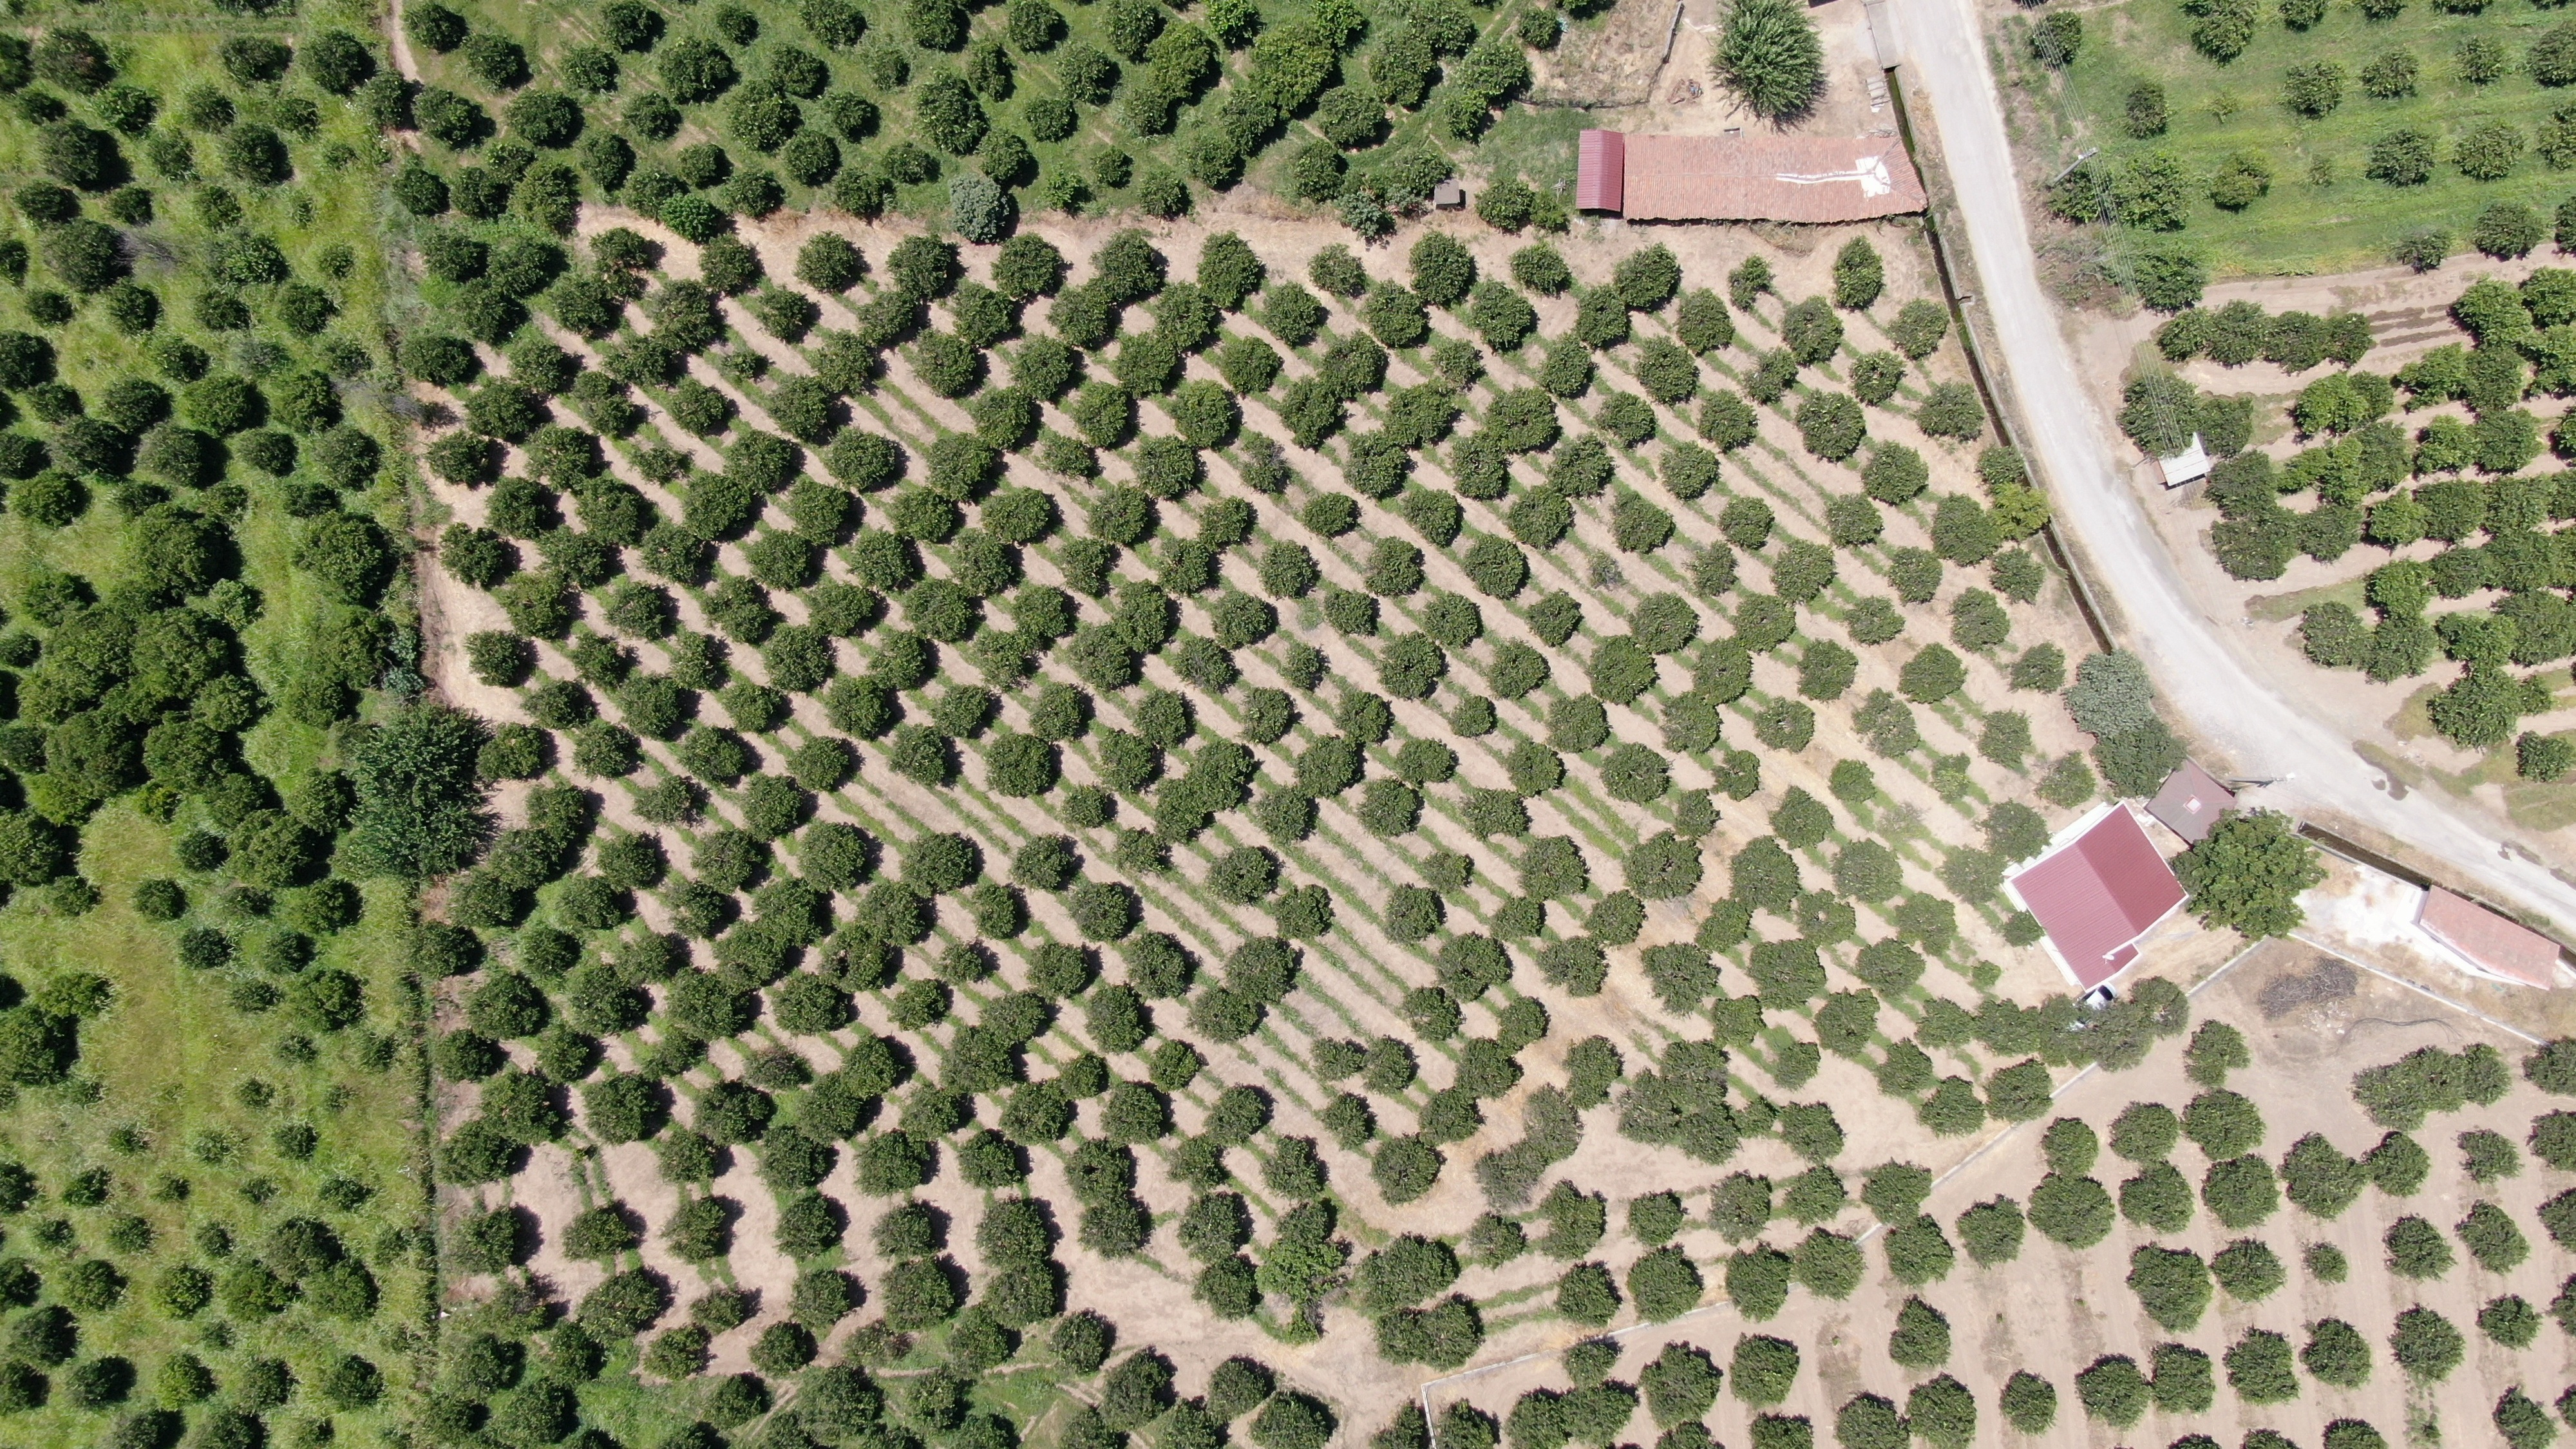TREE: (2166, 809, 2327, 938), (354, 702, 497, 812), (1707, 0, 1826, 126), (341, 782, 495, 876), (294, 511, 395, 600), (126, 607, 230, 692), (2059, 649, 2155, 741), (46, 709, 142, 800), (2427, 669, 2521, 754), (2091, 717, 2187, 800), (2127, 1240, 2212, 1332), (127, 508, 219, 591), (2279, 1132, 2364, 1221), (1251, 19, 1334, 110), (1638, 1341, 1721, 1430), (2118, 372, 2199, 462), (2208, 502, 2300, 582), (35, 119, 129, 193), (14, 658, 104, 734), (2112, 149, 2192, 234), (145, 709, 228, 789), (228, 809, 315, 885), (2028, 1173, 2114, 1249), (2178, 1086, 2266, 1161), (2328, 419, 2408, 501), (2489, 589, 2571, 669), (2387, 1302, 2466, 1384), (481, 1067, 561, 1148), (1638, 939, 1721, 1017), (44, 218, 131, 292), (2199, 1154, 2282, 1230), (2447, 272, 2532, 347), (665, 968, 750, 1042), (2222, 1325, 2300, 1405), (1626, 1246, 1704, 1325), (803, 1362, 885, 1438), (915, 67, 987, 152), (1622, 826, 1704, 901), (2454, 1200, 2532, 1276), (1727, 835, 1799, 916), (1790, 1226, 1867, 1302), (2074, 1355, 2151, 1430), (2350, 1058, 2429, 1131), (750, 878, 832, 948), (975, 1196, 1051, 1270), (582, 1072, 658, 1146), (1904, 1371, 1976, 1449), (0, 1005, 71, 1085), (324, 609, 395, 688), (2203, 449, 2282, 520), (1407, 228, 1477, 308), (1481, 384, 1560, 455), (497, 570, 577, 640), (1539, 1178, 1608, 1260), (1102, 1348, 1171, 1430), (579, 1270, 662, 1338), (2128, 242, 2206, 313), (1748, 939, 1826, 1010), (1721, 1240, 1790, 1320), (30, 27, 111, 94), (435, 1120, 518, 1185), (2298, 1316, 2373, 1389), (881, 1258, 955, 1330), (796, 821, 869, 895), (568, 964, 642, 1037), (2381, 1212, 2457, 1283), (1953, 1192, 2024, 1269), (939, 1024, 1016, 1095), (1435, 932, 1513, 1001), (2208, 1237, 2288, 1304), (897, 832, 978, 897), (2434, 612, 2518, 676), (770, 973, 853, 1037), (508, 163, 580, 235), (1882, 1214, 1955, 1286), (1727, 1332, 1799, 1405), (1343, 428, 1415, 501), (701, 575, 773, 648), (1359, 278, 1433, 349), (2291, 373, 2367, 442), (2148, 1339, 2217, 1415), (1930, 492, 1999, 568), (816, 925, 892, 994), (694, 1079, 771, 1146), (713, 918, 791, 985), (1384, 380, 1463, 446), (1617, 1067, 1679, 1150), (1796, 391, 1867, 464), (646, 278, 717, 350), (1368, 32, 1437, 106), (1829, 837, 1904, 906), (467, 973, 541, 1042), (1976, 798, 2052, 865), (1888, 1293, 1953, 1371), (2033, 993, 2098, 1070), (855, 1131, 932, 1196), (1559, 1378, 1638, 1442), (1256, 1238, 1343, 1297), (1612, 241, 1683, 311), (575, 478, 646, 548), (1373, 1134, 1442, 1207), (1226, 934, 1295, 1007), (1247, 1389, 1330, 1449), (568, 372, 642, 439), (481, 1382, 556, 1449), (58, 416, 134, 481), (1419, 1293, 1483, 1371), (1196, 232, 1260, 310), (2180, 0, 2261, 60), (2396, 341, 2465, 412), (2181, 1019, 2252, 1088), (1851, 688, 1920, 759), (1587, 635, 1658, 704), (1660, 1039, 1730, 1108), (1376, 630, 1445, 701), (925, 433, 994, 504), (947, 527, 1016, 598), (824, 672, 893, 743), (761, 623, 830, 694), (681, 469, 750, 540), (525, 421, 596, 490), (656, 35, 729, 103), (902, 577, 975, 644), (2298, 603, 2373, 669), (1514, 835, 1589, 901), (1387, 1231, 1461, 1297), (980, 1263, 1056, 1327), (423, 428, 502, 488), (1522, 1083, 1582, 1162), (488, 828, 568, 888), (1177, 1192, 1246, 1261), (1000, 1077, 1069, 1146), (2367, 122, 2438, 189), (2201, 299, 2272, 366), (1813, 987, 1881, 1058), (801, 1070, 869, 1141), (775, 1194, 846, 1261), (446, 863, 517, 931), (299, 30, 372, 96), (2457, 341, 2523, 414), (1861, 1157, 1934, 1223), (1472, 280, 1537, 352), (856, 881, 929, 947), (534, 524, 607, 589), (218, 1260, 292, 1323), (729, 80, 793, 154), (2466, 410, 2541, 474), (1707, 1171, 1771, 1246), (1626, 591, 1700, 655), (823, 428, 897, 492), (189, 669, 265, 731), (1150, 23, 1212, 99), (600, 582, 678, 642), (288, 766, 357, 833), (2399, 1046, 2468, 1113), (1983, 1058, 2052, 1125), (640, 517, 708, 586), (617, 672, 685, 741), (2413, 478, 2484, 543), (1776, 1100, 1847, 1166), (1635, 334, 1700, 405), (1474, 1143, 1545, 1208), (984, 732, 1054, 798), (1063, 1138, 1134, 1203), (1077, 1194, 1148, 1260), (453, 1205, 518, 1276), (290, 968, 363, 1031), (2364, 617, 2436, 681), (2089, 1000, 2153, 1072), (1934, 842, 2006, 906), (1277, 375, 1341, 448), (690, 830, 763, 893), (2452, 119, 2526, 180), (1852, 936, 1927, 998), (1833, 1389, 1909, 1449), (205, 230, 288, 285), (1555, 1261, 1622, 1329), (1099, 1079, 1166, 1146), (810, 329, 878, 396), (281, 665, 350, 731), (948, 173, 1014, 242), (2047, 161, 2116, 226), (2365, 556, 2434, 621), (2360, 1132, 2429, 1198), (1109, 333, 1178, 398), (1092, 232, 1157, 301), (724, 430, 793, 495), (552, 269, 621, 334), (439, 524, 504, 593), (469, 379, 540, 442), (2482, 531, 2553, 594), (1150, 280, 1214, 350), (1189, 740, 1253, 810), (991, 234, 1062, 297), (676, 725, 747, 789), (221, 124, 294, 186), (0, 810, 62, 883), (1782, 295, 1844, 368), (1598, 741, 1670, 803), (1536, 936, 1608, 998), (1085, 984, 1146, 1056), (476, 722, 548, 784), (561, 1203, 639, 1260), (2261, 308, 2328, 373), (1893, 890, 1959, 957), (1460, 533, 1527, 598), (1196, 1254, 1261, 1322), (888, 234, 954, 301), (794, 230, 862, 295), (310, 1260, 379, 1323), (2477, 474, 2546, 538), (1861, 441, 1930, 504), (1767, 786, 1836, 849), (1506, 485, 1575, 548), (1169, 379, 1233, 448), (1008, 334, 1072, 403), (950, 1302, 1014, 1371), (182, 373, 253, 435), (272, 372, 343, 433), (99, 671, 170, 732), (954, 1129, 1024, 1191), (2472, 200, 2544, 260), (1560, 1035, 1619, 1109), (1111, 579, 1169, 653), (2208, 147, 2273, 212), (1134, 435, 1200, 501), (662, 1198, 727, 1263), (768, 373, 833, 439), (2491, 1385, 2558, 1449), (1548, 433, 1615, 497), (1323, 331, 1391, 395), (1295, 734, 1362, 798), (1086, 483, 1154, 547), (1127, 932, 1191, 1000), (763, 1125, 830, 1189), (1316, 85, 1385, 147), (2293, 501, 2362, 563), (1898, 642, 1967, 704), (1449, 433, 1511, 502), (1152, 777, 1214, 846), (916, 331, 978, 400), (738, 773, 807, 835), (1458, 39, 1529, 99), (1973, 998, 2043, 1058), (1675, 287, 1736, 357), (793, 478, 853, 548), (982, 487, 1054, 545), (1189, 985, 1263, 1042), (483, 478, 548, 541), (1780, 1164, 1845, 1228), (1771, 540, 1836, 603), (1456, 1037, 1522, 1100), (1205, 1355, 1270, 1419), (1047, 1311, 1111, 1376), (1918, 379, 1985, 441), (1918, 1076, 1985, 1138), (1207, 589, 1274, 651), (699, 228, 761, 295), (16, 566, 85, 626), (978, 991, 1047, 1051), (1982, 483, 2052, 541), (642, 1323, 713, 1382), (464, 630, 534, 688), (37, 970, 111, 1024), (315, 426, 379, 490), (145, 423, 209, 487), (2127, 975, 2190, 1039), (1948, 587, 2012, 651), (1660, 692, 1723, 755), (2192, 393, 2254, 458), (2364, 487, 2429, 548), (1504, 1387, 1569, 1449), (1261, 1136, 1327, 1198), (1074, 625, 1136, 690), (902, 1369, 964, 1435), (839, 1033, 901, 1099), (1691, 637, 1752, 704), (1608, 492, 1675, 552), (596, 832, 663, 892), (1831, 237, 1884, 313), (203, 771, 272, 830), (265, 1215, 334, 1274), (504, 88, 573, 147), (1999, 1368, 2058, 1437), (99, 375, 170, 432), (805, 584, 878, 639), (2523, 327, 2576, 402), (1796, 639, 1858, 702), (1353, 1251, 1417, 1313), (1203, 1083, 1267, 1145), (952, 283, 1014, 347), (973, 387, 1035, 451), (890, 725, 952, 789), (849, 531, 913, 593), (748, 527, 812, 589), (410, 918, 474, 980), (412, 85, 478, 145), (2040, 1116, 2100, 1182), (1730, 594, 1796, 655), (1545, 694, 1610, 754), (1097, 727, 1157, 793), (1069, 881, 1134, 941), (789, 1269, 855, 1329), (571, 722, 637, 782), (524, 782, 589, 842), (2475, 1293, 2542, 1352), (1884, 299, 1951, 357), (1207, 846, 1274, 904), (1047, 287, 1115, 345), (1460, 786, 1529, 842), (1074, 380, 1131, 449), (1056, 44, 1118, 106), (2035, 748, 2097, 810), (1261, 283, 1323, 345), (1026, 681, 1088, 743), (11, 1306, 71, 1369), (2452, 1044, 2512, 1108), (1681, 1104, 1741, 1168), (867, 630, 931, 690), (2413, 412, 2472, 478), (1419, 1086, 1484, 1145), (1010, 833, 1076, 892), (1024, 943, 1092, 1000), (892, 488, 959, 545), (855, 292, 922, 349), (872, 1203, 941, 1258), (1697, 389, 1757, 451), (1355, 777, 1417, 837), (667, 881, 727, 943), (1582, 890, 1645, 948), (1168, 1134, 1231, 1192), (786, 734, 849, 793), (600, 338, 678, 386), (2281, 60, 2346, 117), (748, 1322, 816, 1376), (642, 1028, 711, 1081), (322, 1353, 382, 1414), (1660, 441, 1720, 501), (1504, 740, 1564, 800), (1364, 536, 1424, 596), (1258, 540, 1318, 600), (663, 632, 724, 692), (1217, 88, 1276, 150), (2518, 265, 2576, 327), (1401, 488, 1463, 547), (1384, 883, 1442, 945), (1371, 1307, 1430, 1369), (706, 1371, 768, 1430), (571, 632, 630, 694), (14, 471, 78, 527), (1537, 334, 1594, 398), (488, 242, 556, 295), (479, 1279, 547, 1332), (1405, 2, 1474, 53), (632, 775, 701, 826), (152, 1261, 212, 1320), (1874, 1039, 1934, 1097), (1525, 589, 1585, 648), (1488, 642, 1548, 701), (1219, 336, 1279, 395), (1132, 688, 1191, 748), (669, 379, 727, 439), (0, 329, 57, 391), (973, 630, 1030, 692), (460, 32, 524, 87), (2456, 1129, 2519, 1184), (1575, 287, 1629, 350), (888, 978, 952, 1033), (405, 333, 471, 386), (556, 42, 621, 96), (1270, 885, 1336, 938), (2526, 19, 2576, 88), (301, 876, 359, 934), (1155, 538, 1214, 596), (1014, 587, 1072, 646), (1989, 547, 2045, 607), (1886, 545, 1943, 605), (1755, 697, 1815, 754), (1796, 890, 1856, 947), (1596, 391, 1656, 448), (1421, 593, 1481, 649), (1403, 985, 1463, 1042), (2028, 9, 2082, 71), (1624, 1191, 1686, 1246), (616, 932, 678, 987), (1913, 996, 1976, 1049), (720, 683, 784, 736), (1288, 142, 1345, 200), (2155, 308, 2213, 364), (1175, 637, 1233, 694), (658, 1127, 717, 1184), (768, 44, 828, 99), (1474, 177, 1534, 232), (2514, 729, 2574, 784), (1256, 786, 1316, 840), (536, 1023, 591, 1083), (455, 1334, 510, 1394), (743, 1044, 812, 1092), (518, 681, 587, 729), (464, 288, 525, 341), (934, 685, 996, 738), (1842, 596, 1905, 648), (1509, 244, 1573, 295), (1433, 1398, 1497, 1449), (660, 195, 725, 244), (1102, 0, 1159, 57), (1468, 1210, 1525, 1267), (1334, 688, 1391, 745), (278, 281, 336, 336), (62, 1260, 120, 1315), (2427, 547, 2486, 602), (2521, 1037, 2576, 1095), (1976, 708, 2031, 766), (1826, 494, 1884, 548), (1743, 347, 1798, 405), (1716, 495, 1775, 550), (1058, 538, 1113, 596), (433, 1028, 492, 1083), (598, 0, 658, 53), (625, 170, 685, 223), (2360, 46, 2420, 99), (1727, 253, 1780, 313), (1307, 244, 1368, 297), (902, 1086, 962, 1139), (1368, 1398, 1430, 1449), (400, 4, 464, 53), (1559, 1336, 1622, 1385), (524, 925, 571, 991), (177, 80, 234, 134), (1695, 895, 1750, 952), (1240, 686, 1295, 743), (1146, 1037, 1201, 1093), (2394, 221, 2452, 274), (1361, 1035, 1414, 1093), (757, 287, 810, 345), (14, 182, 81, 228), (237, 1355, 288, 1415), (425, 230, 485, 281), (833, 168, 895, 218), (2120, 78, 2169, 140), (688, 1288, 750, 1338), (218, 35, 281, 83), (800, 0, 863, 48), (1392, 738, 1456, 786), (1849, 350, 1904, 405), (448, 166, 504, 219), (510, 341, 566, 395), (786, 129, 839, 186), (1711, 996, 1767, 1049), (1431, 338, 1488, 391), (363, 71, 414, 129), (2321, 310, 2373, 368), (2010, 642, 2068, 694), (1320, 1090, 1371, 1148), (582, 131, 632, 191), (2526, 1109, 2576, 1169), (1162, 1399, 1223, 1449), (626, 446, 694, 490), (966, 39, 1014, 101), (1309, 1035, 1371, 1083), (547, 1322, 593, 1385), (1007, 0, 1062, 53), (1688, 543, 1741, 598), (727, 170, 784, 221), (902, 0, 959, 51), (1497, 996, 1548, 1053), (96, 87, 156, 134), (237, 428, 297, 476), (1300, 492, 1361, 540), (149, 129, 202, 182), (1196, 495, 1249, 548), (971, 885, 1023, 939), (1240, 437, 1290, 494), (1113, 828, 1169, 878), (621, 92, 679, 140), (1394, 149, 1453, 196), (1272, 1201, 1330, 1249), (150, 336, 211, 382), (980, 129, 1030, 184), (1185, 136, 1240, 186), (154, 1353, 202, 1410), (391, 168, 448, 216), (1307, 0, 1364, 48), (202, 580, 260, 626), (131, 876, 189, 922), (674, 142, 732, 188), (2535, 1187, 2576, 1253), (587, 228, 653, 269), (191, 287, 251, 331), (280, 479, 341, 522), (826, 92, 879, 142), (1343, 191, 1392, 244), (1746, 1410, 1813, 1449), (173, 925, 232, 970), (879, 140, 938, 184), (1062, 1405, 1120, 1449), (106, 285, 157, 334), (65, 1361, 115, 1412), (1138, 170, 1187, 221), (1711, 750, 1760, 801), (28, 379, 83, 425), (44, 872, 99, 918), (202, 1407, 260, 1449), (1672, 789, 1721, 839), (2454, 35, 2505, 83), (1323, 587, 1375, 635), (1056, 1051, 1108, 1099), (189, 184, 242, 230), (195, 479, 249, 524), (1024, 97, 1079, 142), (1042, 433, 1097, 478), (234, 338, 290, 380), (2346, 372, 2394, 421), (2281, 446, 2330, 494), (1828, 757, 1877, 805), (1444, 88, 1490, 140), (934, 941, 987, 985), (260, 929, 315, 971), (1415, 851, 1470, 893), (4, 725, 51, 773), (1773, 1042, 1821, 1090), (1729, 1093, 1776, 1141), (1123, 88, 1173, 134), (428, 1392, 474, 1442), (21, 285, 73, 329), (175, 828, 226, 872), (1447, 694, 1499, 738), (1491, 897, 1543, 941), (267, 94, 320, 136), (104, 476, 157, 518), (1974, 444, 2028, 487), (317, 1177, 372, 1217), (1042, 165, 1090, 211), (1283, 644, 1329, 692), (1060, 784, 1109, 828), (1654, 1419, 1727, 1449), (62, 1166, 113, 1208), (1207, 0, 1258, 42), (1930, 750, 1973, 801), (955, 1414, 1016, 1449), (2304, 1238, 2350, 1284), (103, 1212, 152, 1254), (219, 883, 271, 924), (16, 88, 69, 127), (0, 432, 42, 479), (485, 142, 533, 184), (104, 186, 156, 225), (230, 977, 281, 1016), (1516, 4, 1560, 48), (1525, 191, 1571, 234), (0, 1256, 37, 1307), (0, 1359, 34, 1415), (1092, 145, 1134, 189), (149, 1169, 195, 1210), (2514, 671, 2555, 717), (113, 1414, 165, 1449), (313, 241, 357, 281), (717, 5, 761, 46), (2001, 909, 2045, 950), (324, 341, 372, 379), (1290, 1293, 1327, 1341), (272, 1122, 318, 1159), (191, 1127, 237, 1164), (373, 1224, 410, 1270), (0, 1164, 34, 1214), (195, 1219, 234, 1261), (2279, 0, 2330, 32), (28, 1215, 74, 1251), (869, 42, 904, 88), (272, 1030, 315, 1065), (0, 632, 41, 667), (290, 1415, 333, 1449), (724, 349, 766, 382), (108, 1125, 152, 1157), (0, 237, 30, 283), (359, 1033, 395, 1072), (1387, 186, 1428, 219), (237, 1175, 280, 1207), (198, 1322, 234, 1355), (234, 1077, 272, 1108), (322, 1079, 352, 1115), (322, 142, 359, 170), (2353, 0, 2406, 19), (67, 1077, 103, 1106), (1971, 959, 2003, 989)
